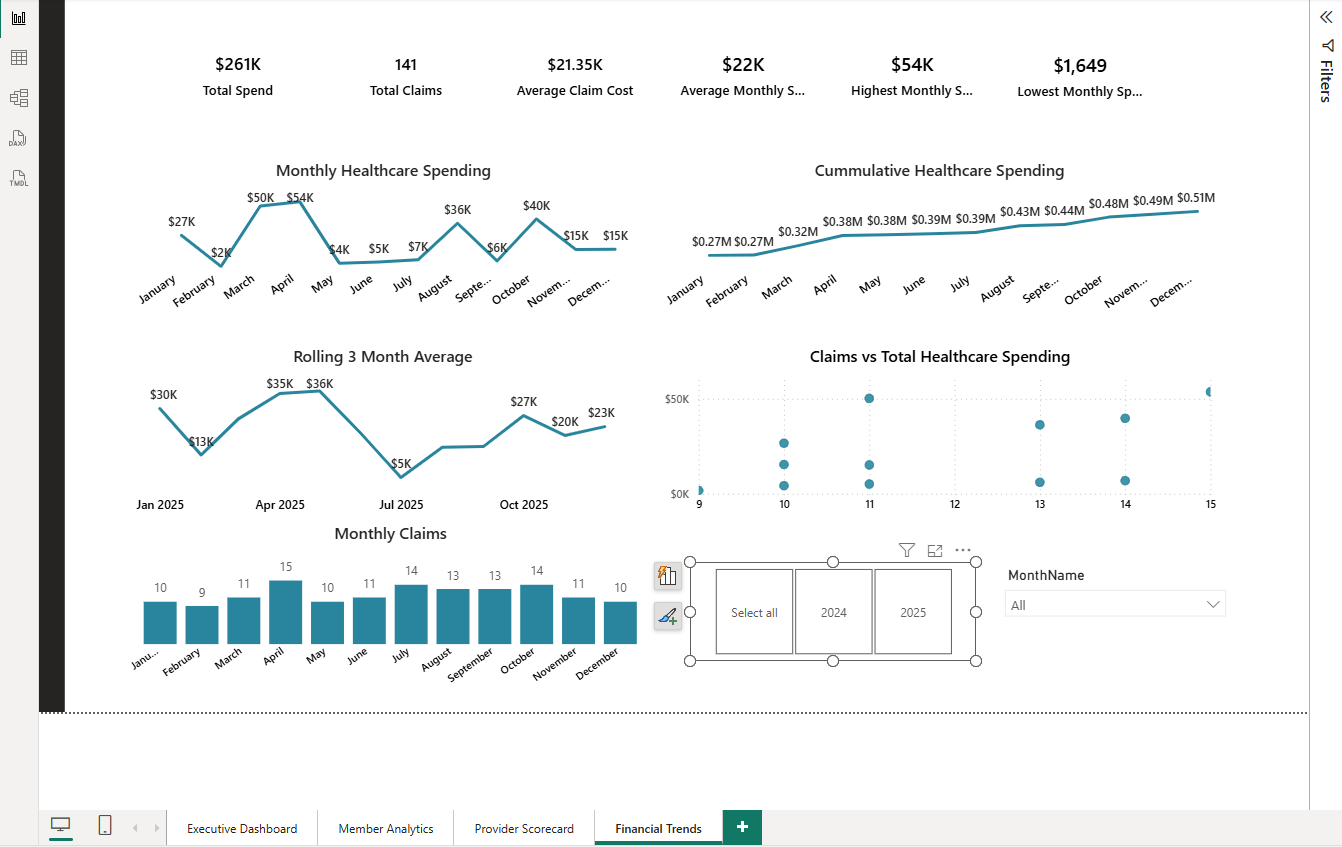

What the dashboard file says about the page in this screenshot:
{"tool":"powerbi","page":{"name":"Financial Trends","canvas":[1280,720],"ordinal":3},"visuals":[{"type":"textbox","box":[0,0,25.6,720.1],"z":0},{"type":"slicer","fields":{"Values":["vw_MonthlyFinancialTrends.ClaimYear"]},"box":[656.3,568,288.1,99.9],"z":0,"group":"g1"},{"type":"card","fields":{"Values":["Sum(vw_MonthlyFinancialTrends.MonthlySpend)"]},"box":[83.6,226.5,147.5,89.4],"z":1000},{"type":"slicer","fields":{"Values":["vw_MonthlyFinancialTrends.MonthName"]},"box":[964.1,568,242.8,99.9],"z":1000,"group":"g1"},{"type":"lineChart","title":"Monthly Healthcare Spending","fields":{"Category":["vw_MonthlyFinancialTrends.MonthDate.Variation.Date Hierarchy.Year","vw_MonthlyFinancialTrends.MonthDate.Variation.Date Hierarchy.Quarter","vw_MonthlyFinancialTrends.MonthDate.Variation.Date Hierarchy.Month","vw_MonthlyFinancialTrends.MonthDate.Variation.Date Hierarchy.Day"],"Y":["Sum(vw_MonthlyFinancialTrends.MonthlySpend)"]},"box":[92.7,162.3,509,163.3],"z":2000},{"type":"lineChart","title":"Cummulative Healthcare Spending","fields":{"Category":["vw_MonthlyFinancialTrends.MonthDate.Variation.Date Hierarchy.Year","vw_MonthlyFinancialTrends.MonthDate.Variation.Date Hierarchy.Quarter","vw_MonthlyFinancialTrends.MonthDate.Variation.Date Hierarchy.Month","vw_MonthlyFinancialTrends.MonthDate.Variation.Date Hierarchy.Day"],"Y":["Sum(vw_MonthlyFinancialTrends.RunningTotal)"]},"box":[624.9,162.6,565.7,163.8],"z":3000},{"type":"lineChart","title":"Rolling 3 Month Average","fields":{"Category":["vw_MonthlyFinancialTrends.MonthDate.Variation.Date Hierarchy.Year","vw_MonthlyFinancialTrends.MonthDate.Variation.Date Hierarchy.Quarter","vw_MonthlyFinancialTrends.MonthDate.Variation.Date Hierarchy.Month","vw_MonthlyFinancialTrends.MonthDate.Variation.Date Hierarchy.Day"],"Y":["Sum(vw_MonthlyFinancialTrends.Rolling3monthAvg)"]},"box":[92.9,349.6,507.6,178.9],"z":4000},{"type":"scatterChart","title":"Claims vs Total Healthcare Spending","fields":{"Category":["vw_MonthlyFinancialTrends.MonthName"],"X":["Sum(vw_MonthlyFinancialTrends.TotalClaims)"],"Y":["Sum(vw_MonthlyFinancialTrends.MonthlySpend)"]},"box":[624.9,349.6,566.8,178.9],"z":5000},{"type":"card","fields":{"Values":["Sum(vw_MonthlyFinancialTrends.MonthlySpend)"]},"box":[130,36.3,141.1,80.6],"z":6000,"group":"g2"},{"type":"card","fields":{"Values":["Sum(vw_MonthlyFinancialTrends.TotalClaims)"]},"box":[299.8,37.3,141,80],"z":7000,"group":"g2"},{"type":"clusteredColumnChart","title":"Monthly Claims","fields":{"Category":["vw_MonthlyFinancialTrends.MonthDate.Variation.Date Hierarchy.Month"],"Y":["Sum(vw_MonthlyFinancialTrends.TotalClaims)"]},"box":[83.6,528.5,541.3,173.1],"z":7000},{"type":"card","fields":{"Values":["Sum(vw_MonthlyFinancialTrends.AvgClaimCost)"]},"box":[469.5,37.3,141,80],"z":8000,"group":"g2"},{"type":"group","id":"g1","title":"Group 3","box":[656.3,568,550.6,99.9],"z":8000},{"type":"card","fields":{"Values":["Min(vw_MonthlyFinancialTrends.MonthlySpend)"]},"box":[978.6,37.3,141,80],"z":8006,"group":"g2"},{"type":"card","fields":{"Values":["Avg(vw_MonthlyFinancialTrends.MonthlySpend)"]},"box":[639.2,36.3,141,80],"z":9000,"group":"g2"},{"type":"card","fields":{"Values":["Max(vw_MonthlyFinancialTrends.MonthlySpend)"]},"box":[808.9,36.3,141,80],"z":10000,"group":"g2"},{"type":"group","id":"g2","title":"Group 1","box":[130,36.3,989.7,80.6],"z":10001}]}

Visuals, with their boxes on the page's 1280x720 design canvas (x1, y1, x2, y2). These are canvas units, not pixel positions in the 1342x847 screenshot, which may show the page scaled, cropped or inside an application window:
textbox: rect(0, 0, 26, 720)
slicer - vw_MonthlyFinancialTrends.ClaimYear: rect(656, 568, 944, 668)
card - Sum(vw_MonthlyFinancialTrends.MonthlySpend): rect(84, 226, 231, 316)
slicer - vw_MonthlyFinancialTrends.MonthName: rect(964, 568, 1207, 668)
"Monthly Healthcare Spending" lineChart: rect(93, 162, 602, 326)
"Cummulative Healthcare Spending" lineChart: rect(625, 163, 1191, 326)
"Rolling 3 Month Average" lineChart: rect(93, 350, 600, 528)
"Claims vs Total Healthcare Spending" scatterChart: rect(625, 350, 1192, 528)
card - Sum(vw_MonthlyFinancialTrends.MonthlySpend): rect(130, 36, 271, 117)
card - Sum(vw_MonthlyFinancialTrends.TotalClaims): rect(300, 37, 441, 117)
"Monthly Claims" clusteredColumnChart: rect(84, 528, 625, 702)
card - Sum(vw_MonthlyFinancialTrends.AvgClaimCost): rect(470, 37, 610, 117)
"Group 3" group: rect(656, 568, 1207, 668)
card - Min(vw_MonthlyFinancialTrends.MonthlySpend): rect(979, 37, 1120, 117)
card - Avg(vw_MonthlyFinancialTrends.MonthlySpend): rect(639, 36, 780, 116)
card - Max(vw_MonthlyFinancialTrends.MonthlySpend): rect(809, 36, 950, 116)
"Group 1" group: rect(130, 36, 1120, 117)
